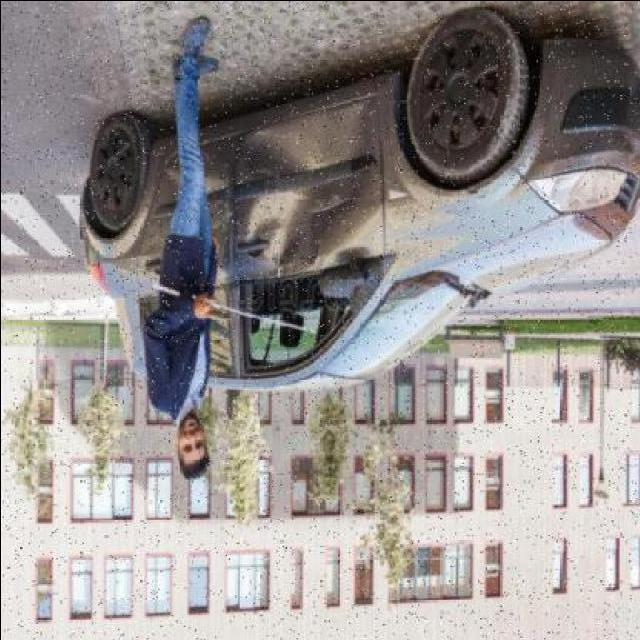doorouter-dent: (233, 119, 382, 283)
fender-dent: (383, 153, 525, 234)
